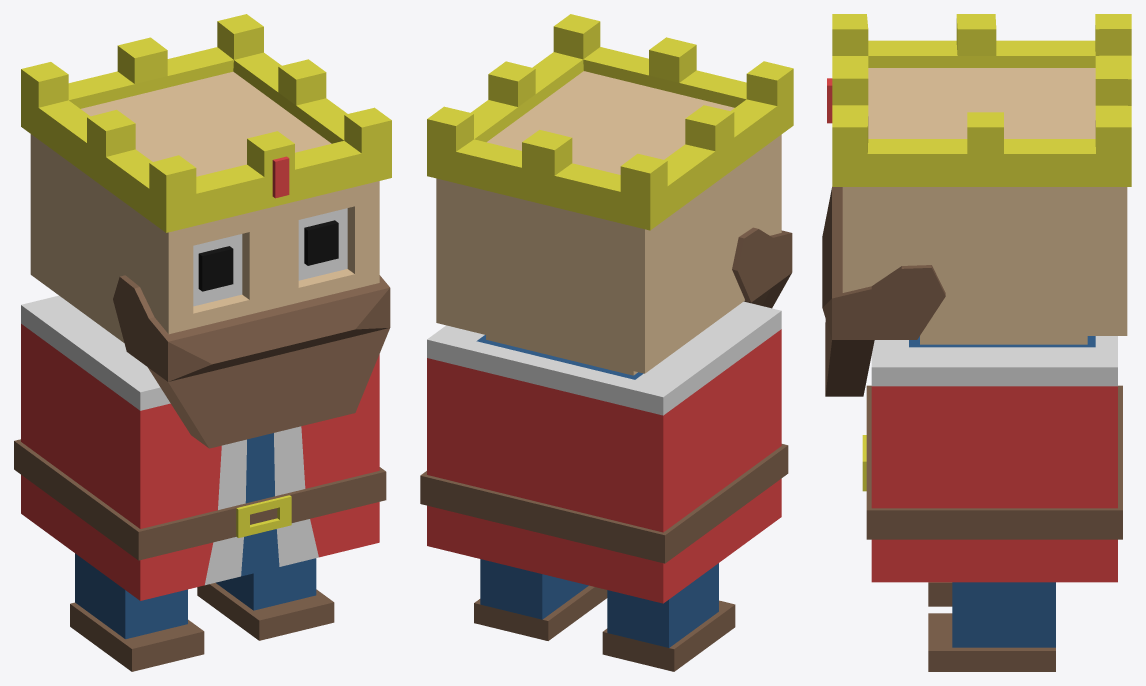
The model's file is Player_King_Stade3.fbx.
3 views of the same model, side by side, from view 1: azimuth 30°, elevation 25°; view 2: azimuth 150°, elevation 25°; view 3: azimuth 270°, elevation 25° (orthographic). The views are drawn at different scales.
Parts seen in each view (by area): view 1: Player_King_Stade3; view 2: Player_King_Stade3; view 3: Player_King_Stade3.
Part boxes in pixels (<box>): Player_King_Stade3: <box>14,14,391,671</box>; Player_King_Stade3: <box>420,14,793,671</box>; Player_King_Stade3: <box>822,14,1131,671</box>.
Bounding box in the file's own units: 79.28 × 163 × 83.17.
